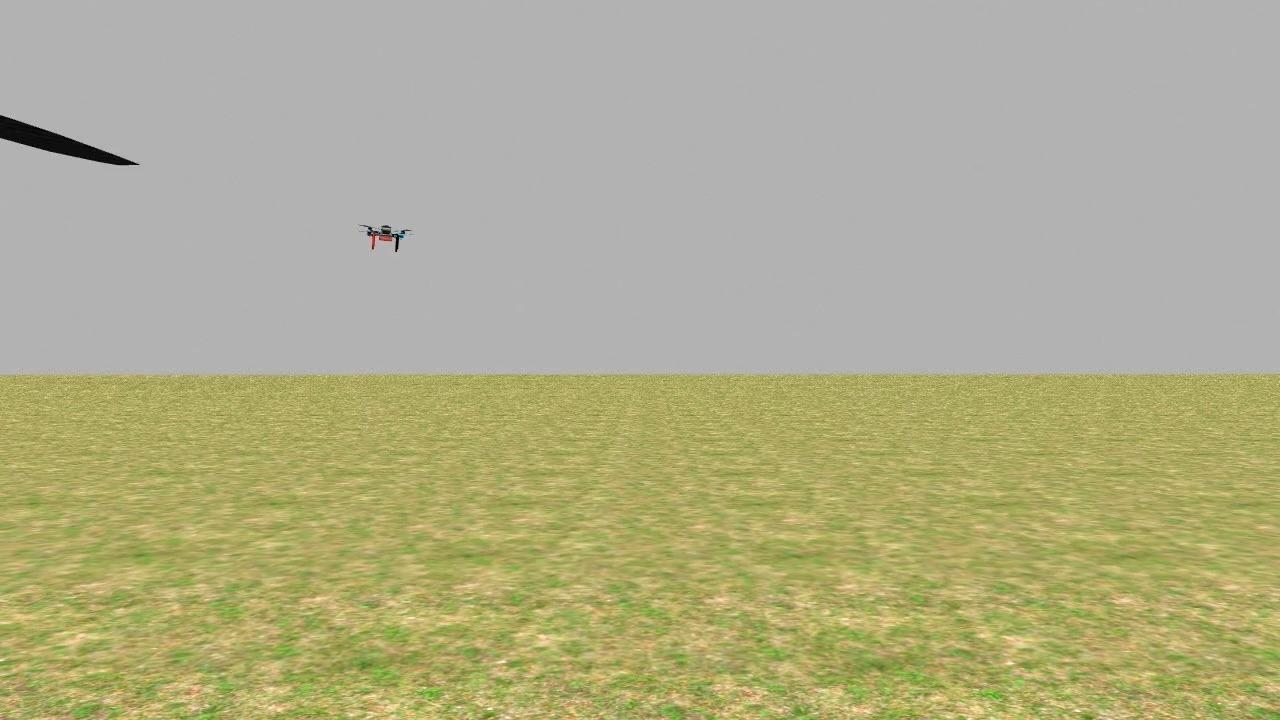UAV: (350, 214, 426, 264)
